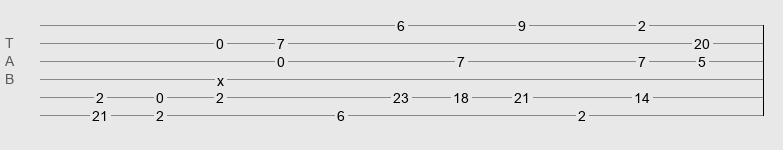0: (156, 90, 164, 100), (216, 36, 224, 46), (277, 54, 285, 64)
14: (634, 90, 650, 100)
18: (453, 90, 469, 100)
2: (96, 90, 104, 100), (156, 108, 164, 118), (216, 90, 224, 100), (578, 108, 586, 118), (638, 18, 646, 28)
20: (694, 36, 710, 46)
21: (92, 108, 108, 118), (514, 90, 530, 100)
23: (393, 90, 409, 100)
5: (698, 54, 706, 64)
6: (337, 108, 345, 118), (397, 18, 405, 28)
7: (277, 36, 285, 46), (457, 54, 465, 64), (638, 54, 646, 64)
9: (518, 18, 526, 28)
x: (217, 73, 224, 81)
